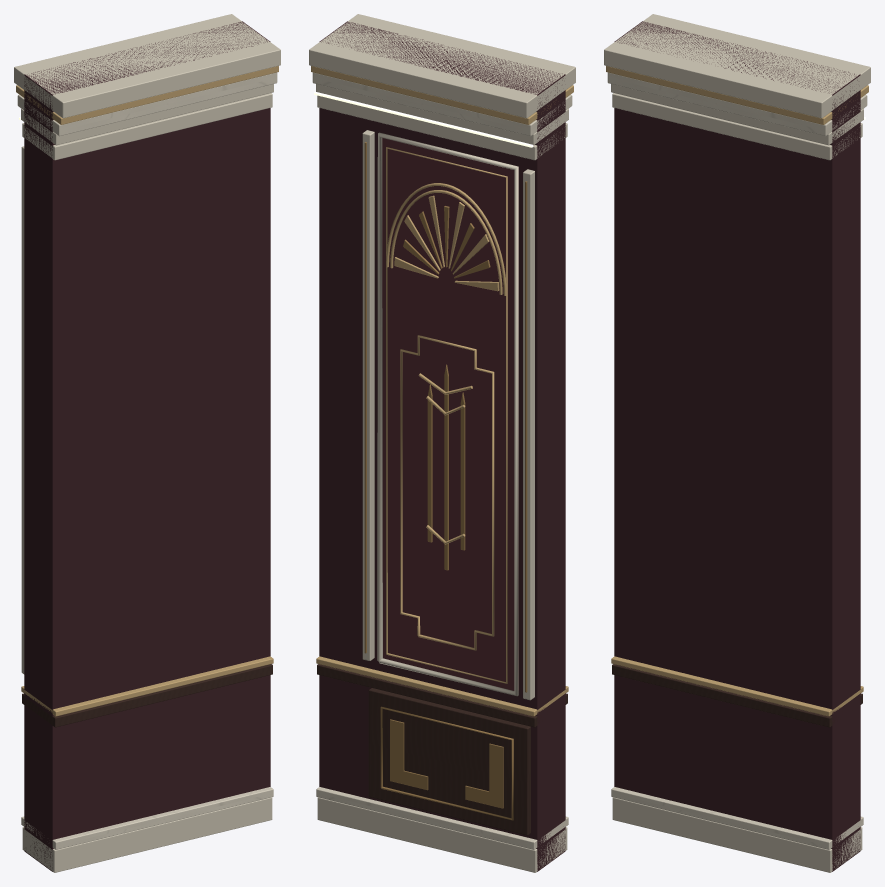
File: casino-deco-casino-wall-es.glb
3 renders of one model, left to right at view 1: azimuth 30°, elevation 25°; view 2: azimuth 150°, elevation 25°; view 3: azimuth 330°, elevation 25°, orthographic.
Parts seen in each view (by area): view 1: casino-wall-es / Entry deep oxblood reveals, casino-wall-es / Entry carved limestone, casino-wall-es / Entry ivory marble, casino-wall-es / Entry champagne brass, casino-wall-es / Entry dark walnut; view 2: casino-wall-es / Entry deep oxblood reveals, casino-wall-es / Entry smoky oxblood lacquer, casino-wall-es / Entry carved limestone, casino-wall-es / Entry dark walnut, casino-wall-es / Entry champagne brass, casino-wall-es / Entry aged bronze, casino-wall-es / Entry ivory marble, casino-wall-es / Entry warm opal; view 3: casino-wall-es / Entry deep oxblood reveals, casino-wall-es / Entry carved limestone, casino-wall-es / Entry ivory marble, casino-wall-es / Entry champagne brass, casino-wall-es / Entry dark walnut.
Part boxes in pixels (bbox=[...]): casino-wall-es / Entry deep oxblood reveals: bbox=[24, 21, 270, 871]; casino-wall-es / Entry carved limestone: bbox=[14, 14, 280, 872]; casino-wall-es / Entry ivory marble: bbox=[17, 72, 277, 849]; casino-wall-es / Entry champagne brass: bbox=[16, 66, 278, 716]; casino-wall-es / Entry dark walnut: bbox=[22, 664, 272, 727]; casino-wall-es / Entry deep oxblood reveals: bbox=[319, 21, 565, 871]; casino-wall-es / Entry smoky oxblood lacquer: bbox=[382, 138, 518, 690]; casino-wall-es / Entry carved limestone: bbox=[309, 14, 575, 872]; casino-wall-es / Entry dark walnut: bbox=[317, 664, 567, 835]; casino-wall-es / Entry champagne brass: bbox=[311, 66, 573, 716]; casino-wall-es / Entry aged bronze: bbox=[364, 142, 527, 820]; casino-wall-es / Entry ivory marble: bbox=[312, 72, 572, 849]; casino-wall-es / Entry warm opal: bbox=[314, 91, 533, 147]; casino-wall-es / Entry deep oxblood reveals: bbox=[614, 21, 860, 871]; casino-wall-es / Entry carved limestone: bbox=[604, 14, 870, 872]; casino-wall-es / Entry ivory marble: bbox=[607, 72, 867, 849]; casino-wall-es / Entry champagne brass: bbox=[606, 66, 868, 716]; casino-wall-es / Entry dark walnut: bbox=[612, 664, 862, 727].
Size of the model in its own units: 2 by 6.8 by 0.78.
8 materials, 2 textured.
